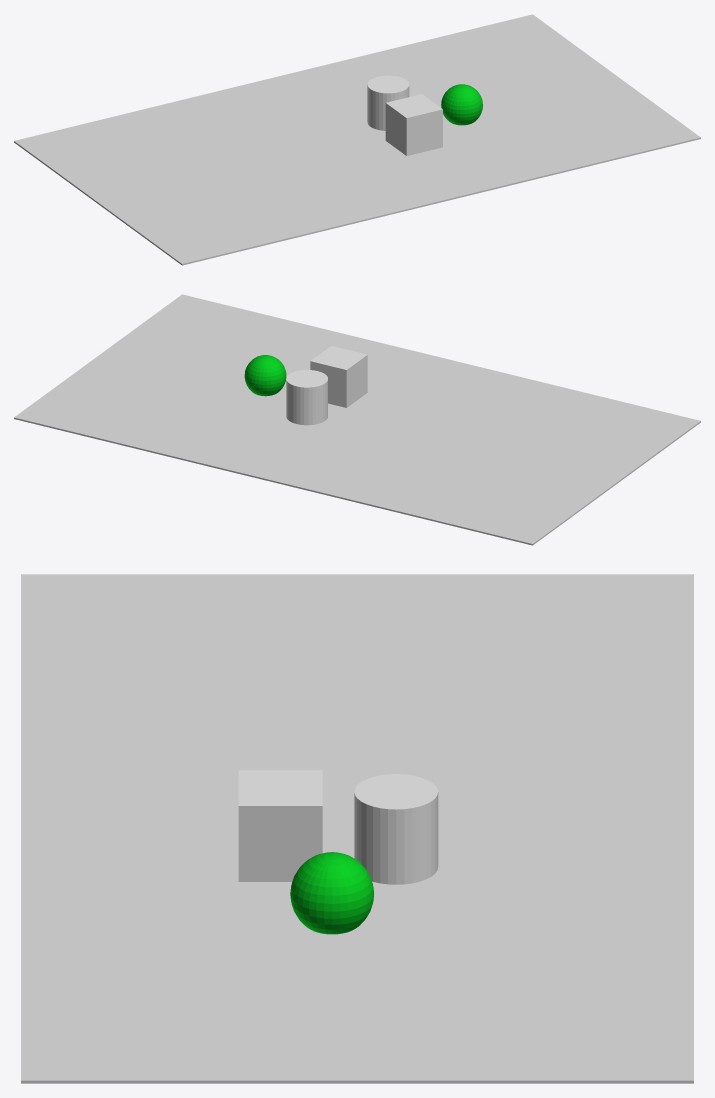
File: hinh2.glb
The picture shows the model from 3 angles, top to bottom: view 1: azimuth 30°, elevation 25°; view 2: azimuth 150°, elevation 25°; view 3: azimuth 270°, elevation 25°; orthographic projection. The views are drawn at different scales.
Parts seen in each view (by area): view 1: Khối Lập Phương, Cube, Hình Trụ, hinhcau; view 2: Khối Lập Phương, Cube, Hình Trụ, hinhcau; view 3: Khối Lập Phương, Cube, Hình Trụ, hinhcau.
Part boxes in pixels (x1,y1,x2,y2): Khối Lập Phương: (14,14,700,265); Cube: (385,94,442,155); Hình Trụ: (367,75,409,130); hinhcau: (441,84,482,125); Khối Lập Phương: (14,294,700,545); Cube: (310,346,367,407); Hình Trụ: (286,370,327,425); hinhcau: (244,355,286,396); Khối Lập Phương: (21,574,693,1083); Cube: (238,770,322,881); Hình Trụ: (354,774,438,884); hinhcau: (290,852,373,934).
Size of the model in its own units: 28.55 by 3.38 by 16.04.
Materials: 3 (1 with a texture image).
